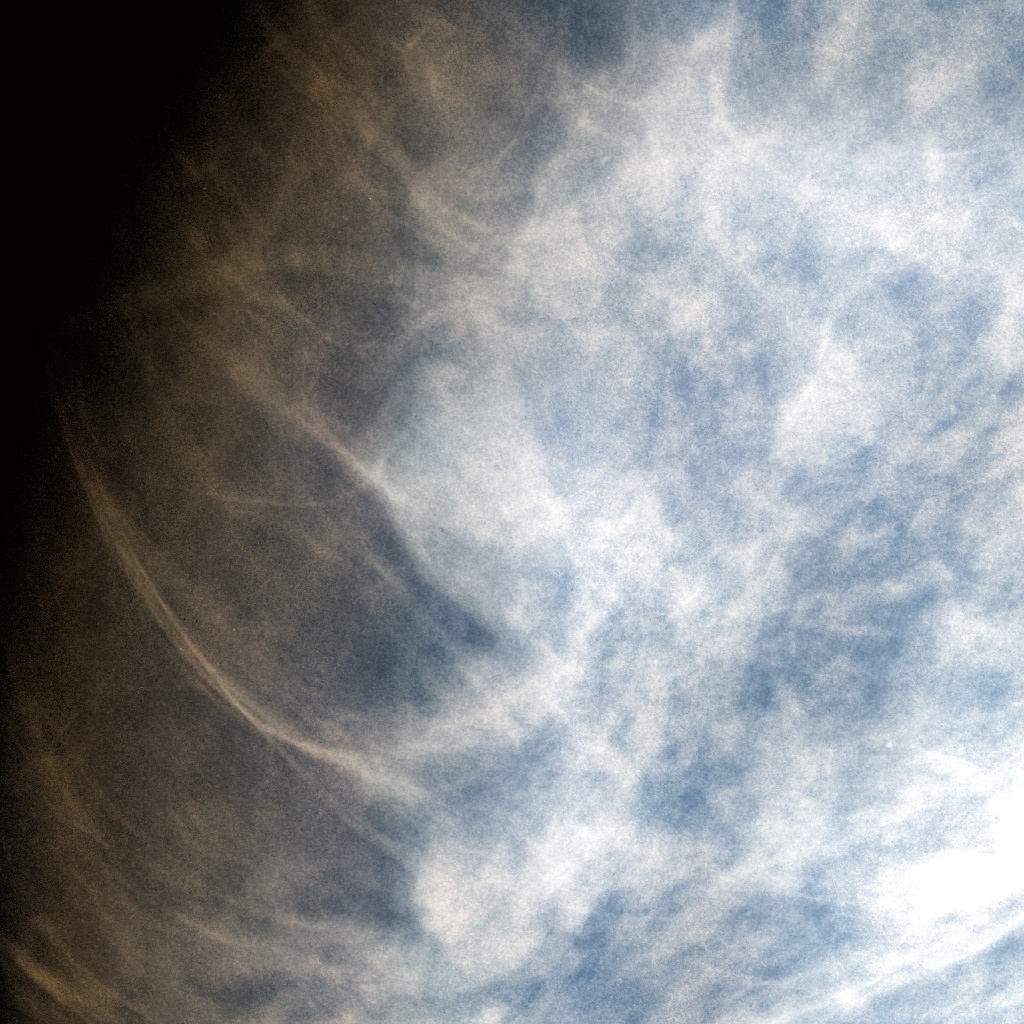tumor: (360, 383, 664, 641)
